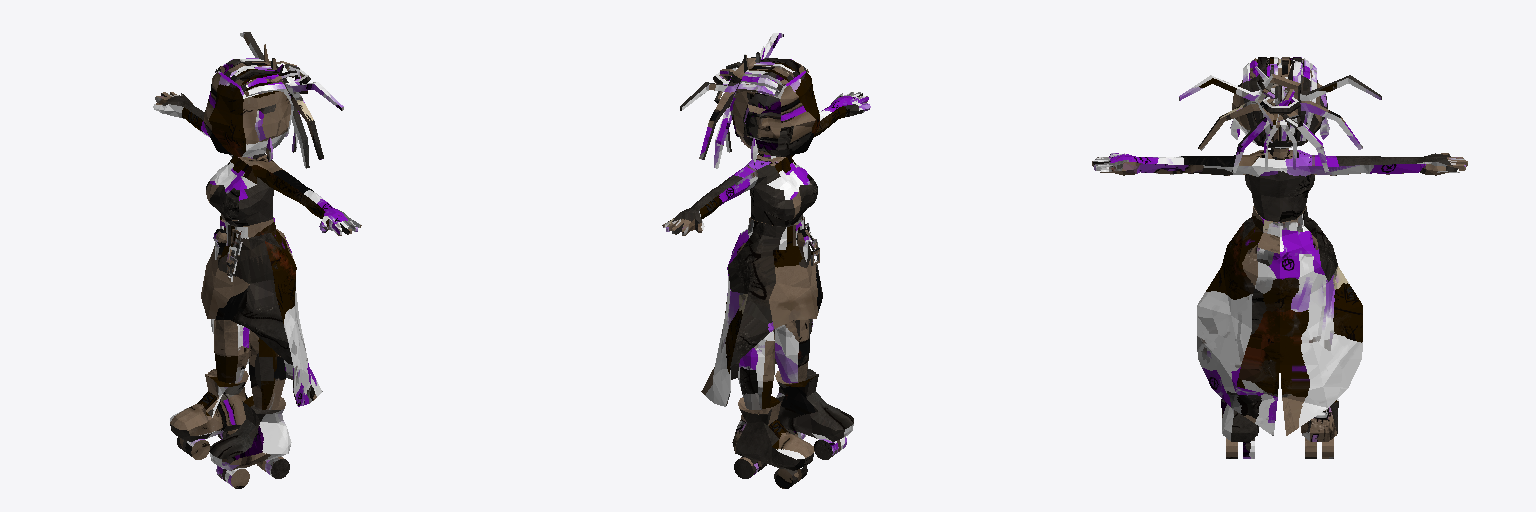
3 renders of one model, left to right at view 1: azimuth 30°, elevation 25°; view 2: azimuth 150°, elevation 25°; view 3: azimuth 270°, elevation 25°, orthographic.
Visible parts, largest first — view 1: Chain_Plane.001; view 2: Chain_Plane.001; view 3: Chain_Plane.001.
Part boxes in pixels (bbox=[...]): Chain_Plane.001: bbox=[153, 32, 361, 488]; Chain_Plane.001: bbox=[662, 33, 870, 488]; Chain_Plane.001: bbox=[1092, 57, 1467, 458].
Size of the model in its own units: 4.25 by 12.91 by 10.86.
1 materials, 1 textured.